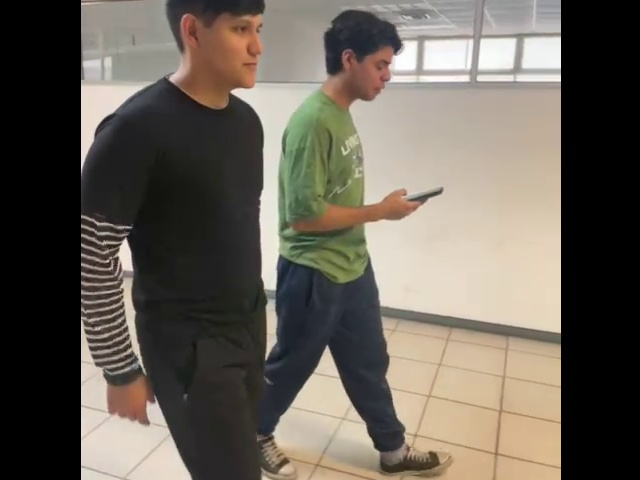mixto2: (400, 174, 446, 203)
